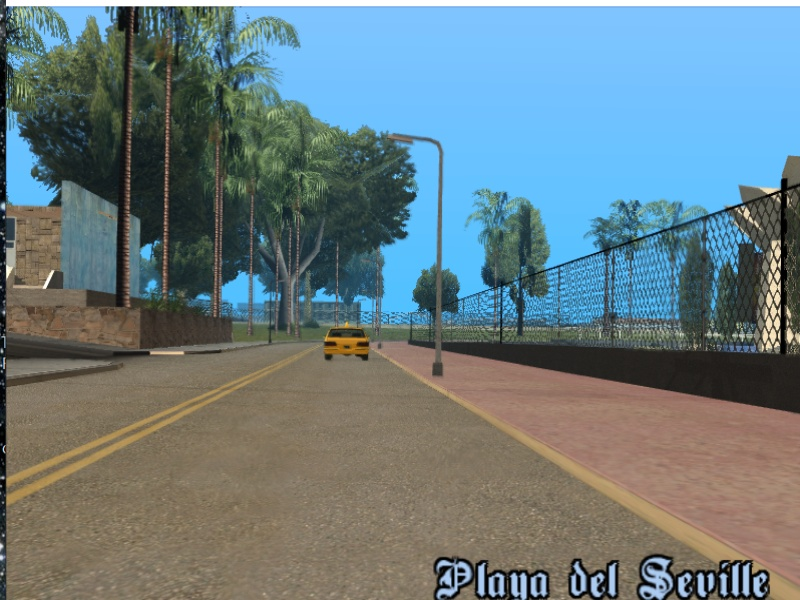pole: (437, 146, 449, 384)
vehicle: (323, 323, 371, 361)
